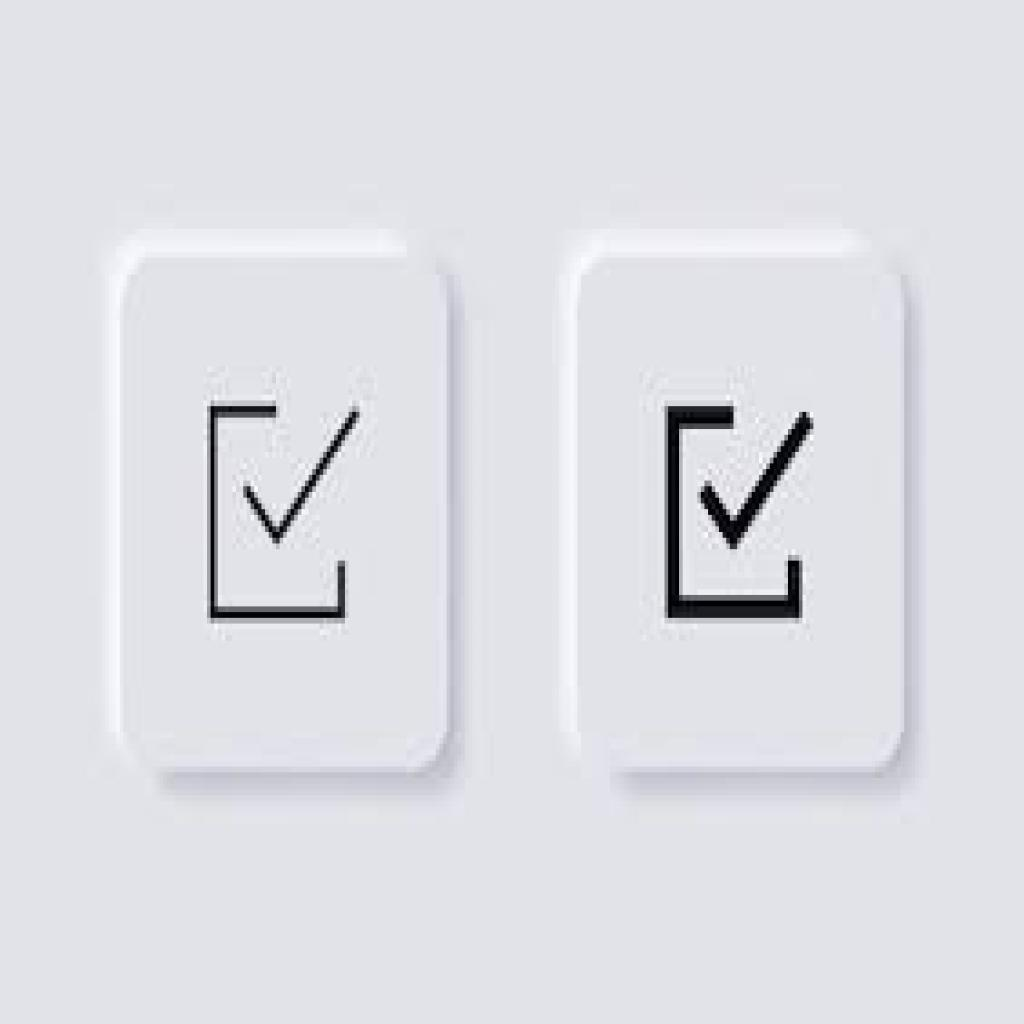checkbox: (200, 397, 363, 626), (663, 395, 813, 621)
